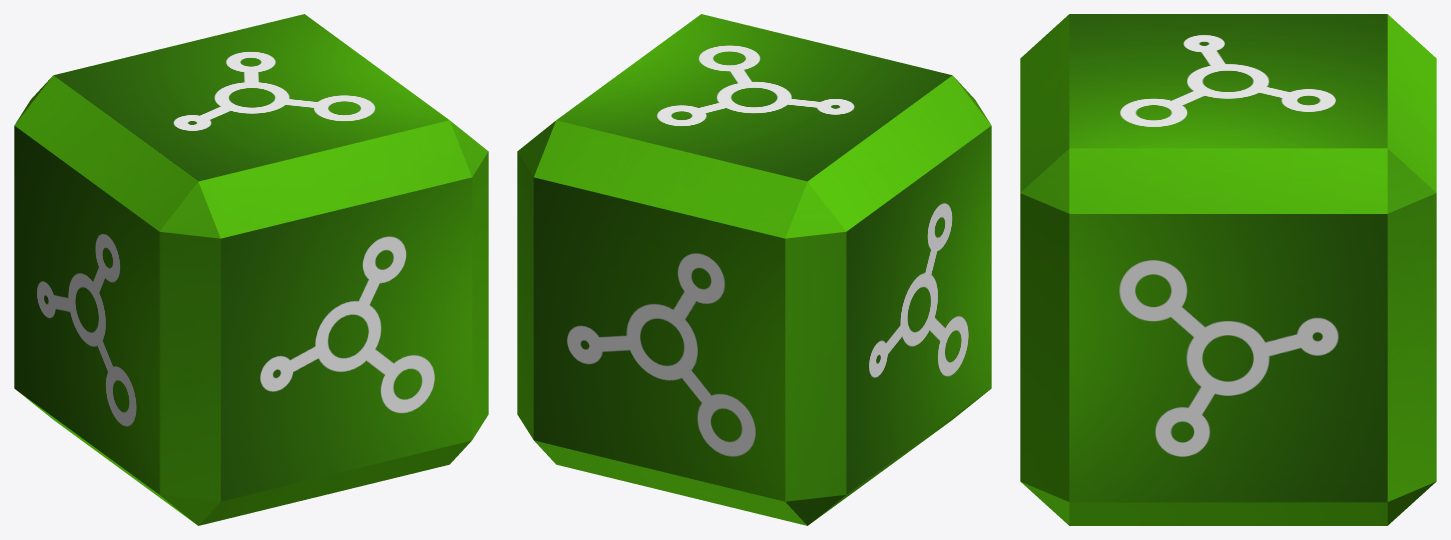
File: greencube.glb
3 renders of one model, left to right at view 1: azimuth 30°, elevation 25°; view 2: azimuth 150°, elevation 25°; view 3: azimuth 270°, elevation 25°, orthographic. The views are drawn at different scales.
Visible parts, largest first — view 1: Cube; view 2: Cube; view 3: Cube.
Boxes of the visible parts, x1=… form: Cube: x1=14, y1=14, x2=488, y2=525; Cube: x1=517, y1=14, x2=991, y2=525; Cube: x1=1020, y1=14, x2=1436, y2=525.
Bounding box in the file's own units: 2 × 2 × 2.
Materials: 1 (1 with a texture image).
